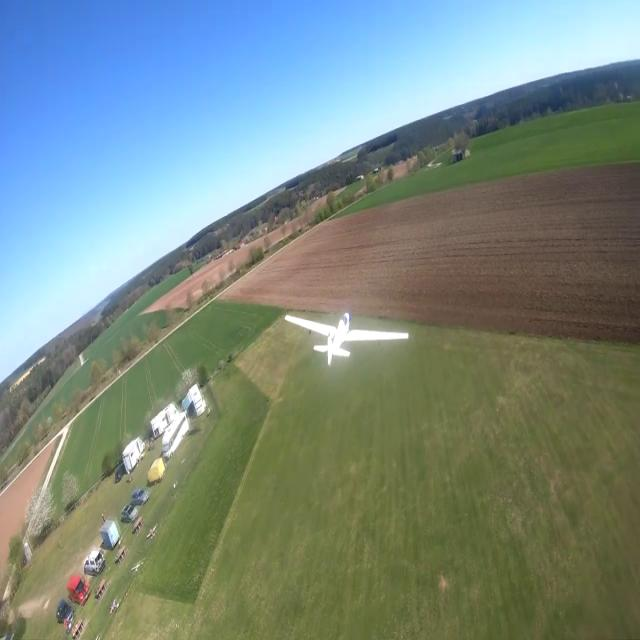iha: (282, 334, 410, 336)
